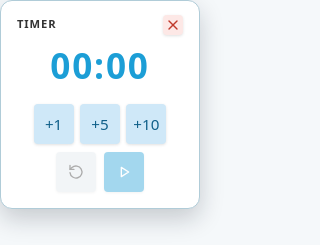
FateTimer › shows pause button while running after start
The image size is (320, 245).
What coordinates should you click on to do the following:
click the button "+1"
I would click on:
 (54, 124)
Its box is left=34, top=104, right=74, bottom=144.
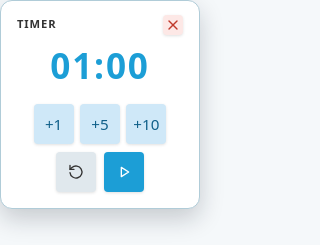
What coordinates should you click on to do the following:
click the button named "Timer starten"
I would click on:
 (124, 172)
Its box is left=104, top=152, right=144, bottom=192.
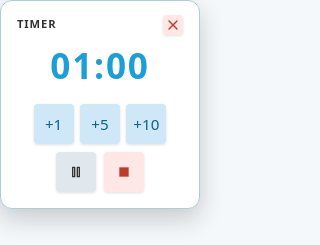
Check: the button named "Timer pausieren" is shown, box left=56, top=152, right=96, bottom=192
Check: the button named "Timer stoppen" is shown, box left=104, top=152, right=144, bottom=192
